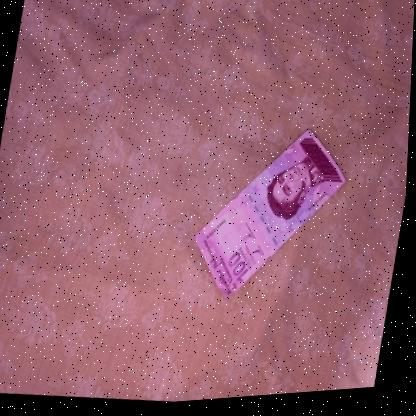one_hundred-front-vef: (185, 117, 357, 319)
